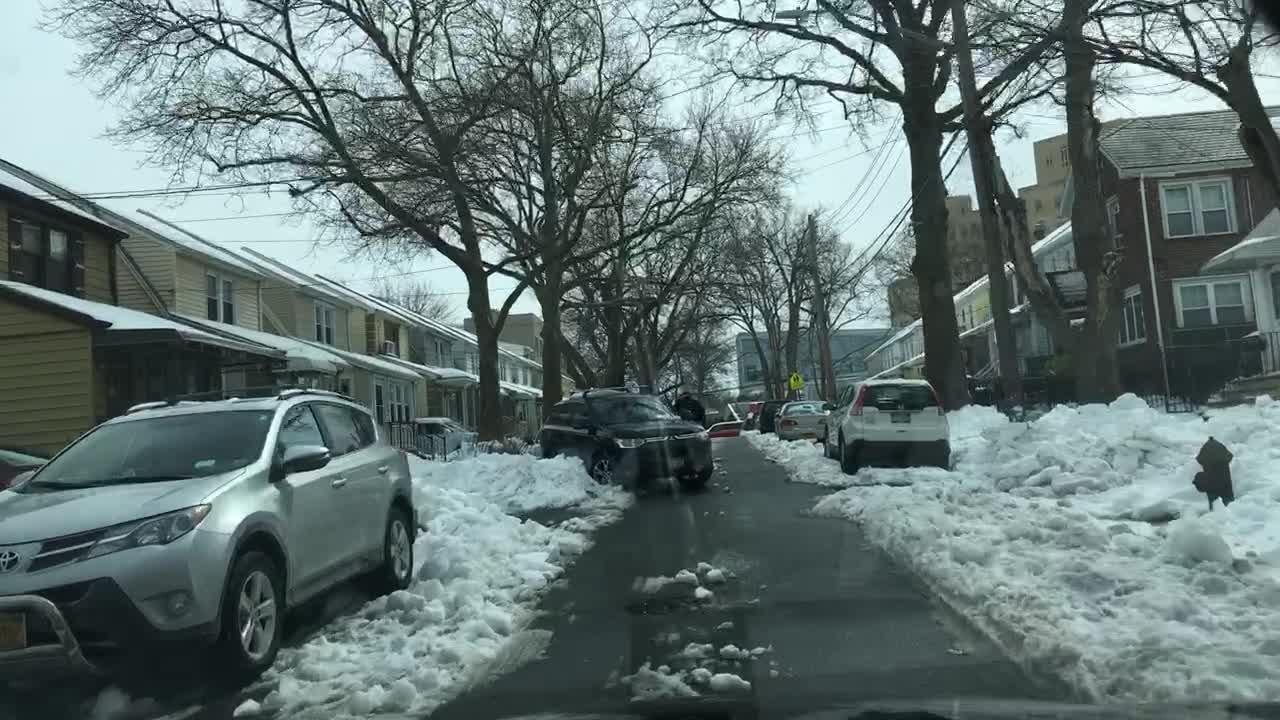Mitsubishi: (668, 434, 677, 444)
Toyota: (0, 548, 25, 576)
